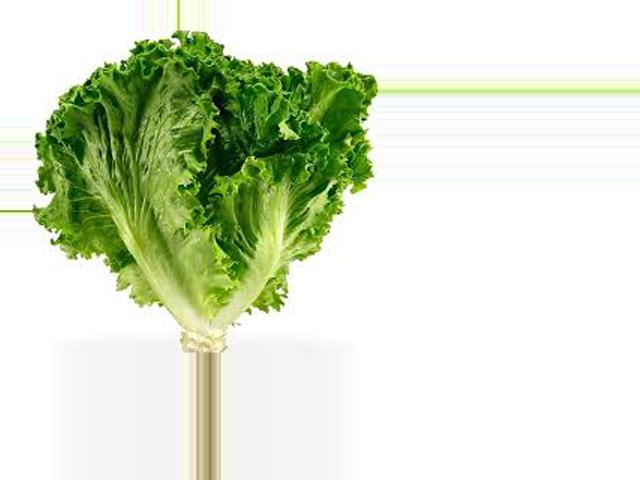lettuce: (32, 33, 373, 353)
